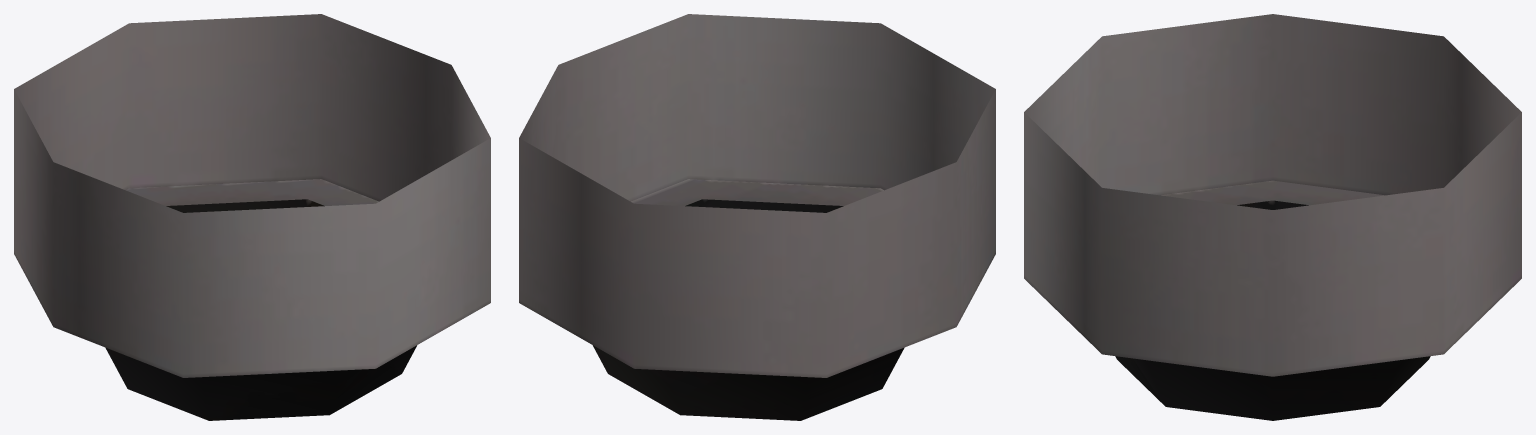
Rendered from SM_Security_Camera.FBX.
3 views of the same model, side by side, from view 1: azimuth 30°, elevation 25°; view 2: azimuth 150°, elevation 25°; view 3: azimuth 270°, elevation 25° (orthographic).
Visible parts, largest first — view 1: SM_Security_Camera; view 2: SM_Security_Camera; view 3: SM_Security_Camera.
Boxes of the visible parts, <box> form: SM_Security_Camera: <box>14,14,490,420</box>; SM_Security_Camera: <box>519,14,995,420</box>; SM_Security_Camera: <box>1024,14,1521,420</box>.
Bounding box in the file's own units: 7.94 × 8.51 × 5.33.
